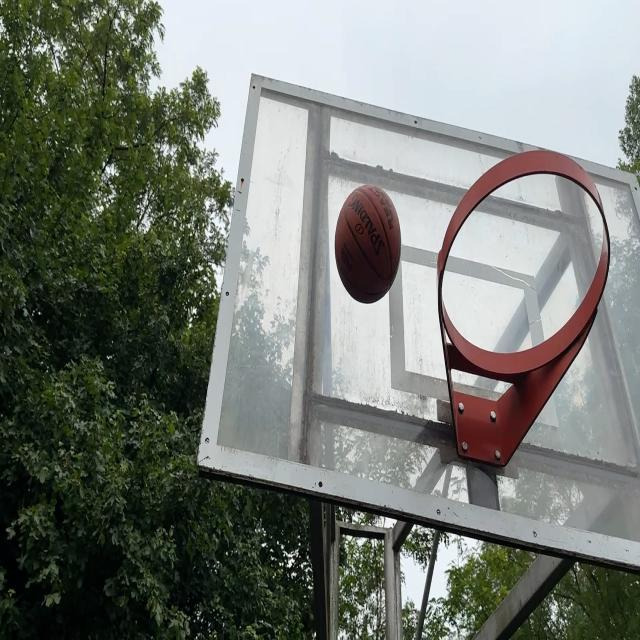rebound_hit: (333, 182, 401, 306)
